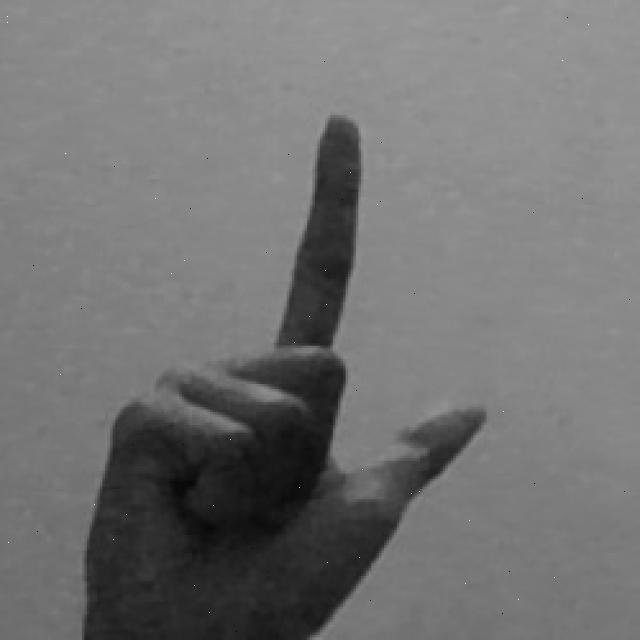L: (78, 106, 492, 640)
